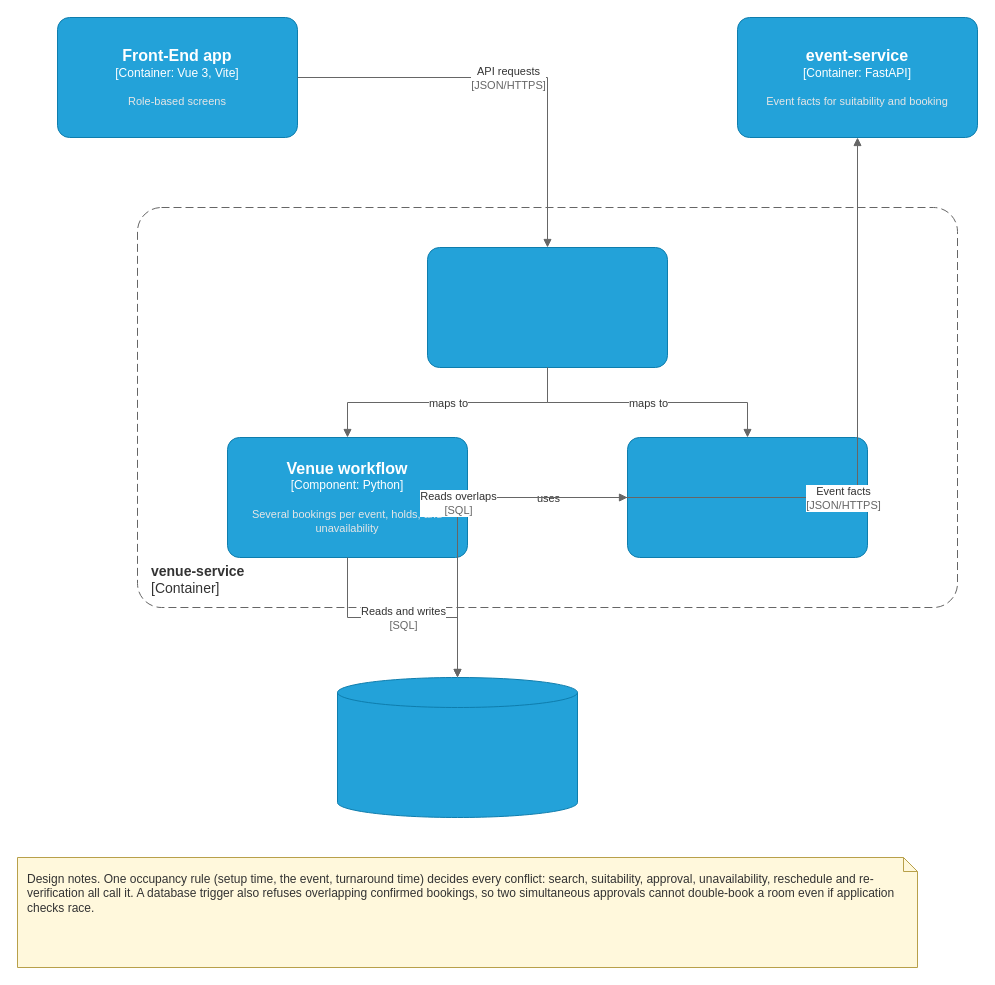
Some shapes in this 995 by 985 pixel diagram are drawn without their labels. Here are the shapes that lost their labels. From the top down, the centre of each, then its label:
At point 547,307: "Venue API [Component: FastAPI] Maps catalogue and booking endpoints".
At point 747,497: "Suitability [Component: Python] Occupied window includes setup and turnaround".
At point 457,747: "Database [Container: MySQL] Venues, bookings, holds, and blocked periods".
